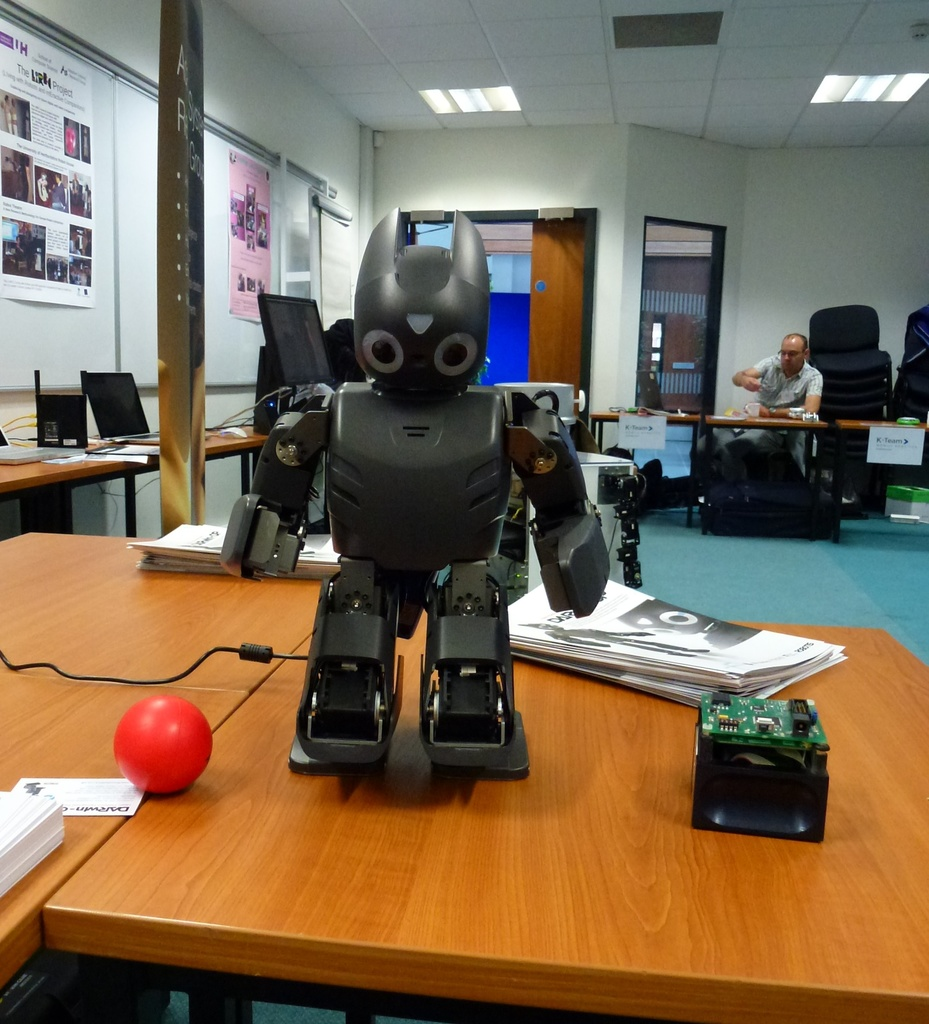Ball: (111, 694, 213, 793)
